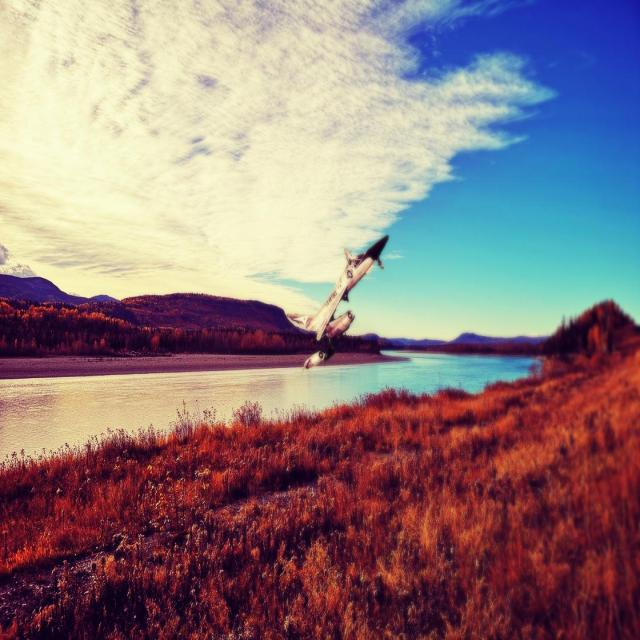airplane: (284, 233, 389, 370)
